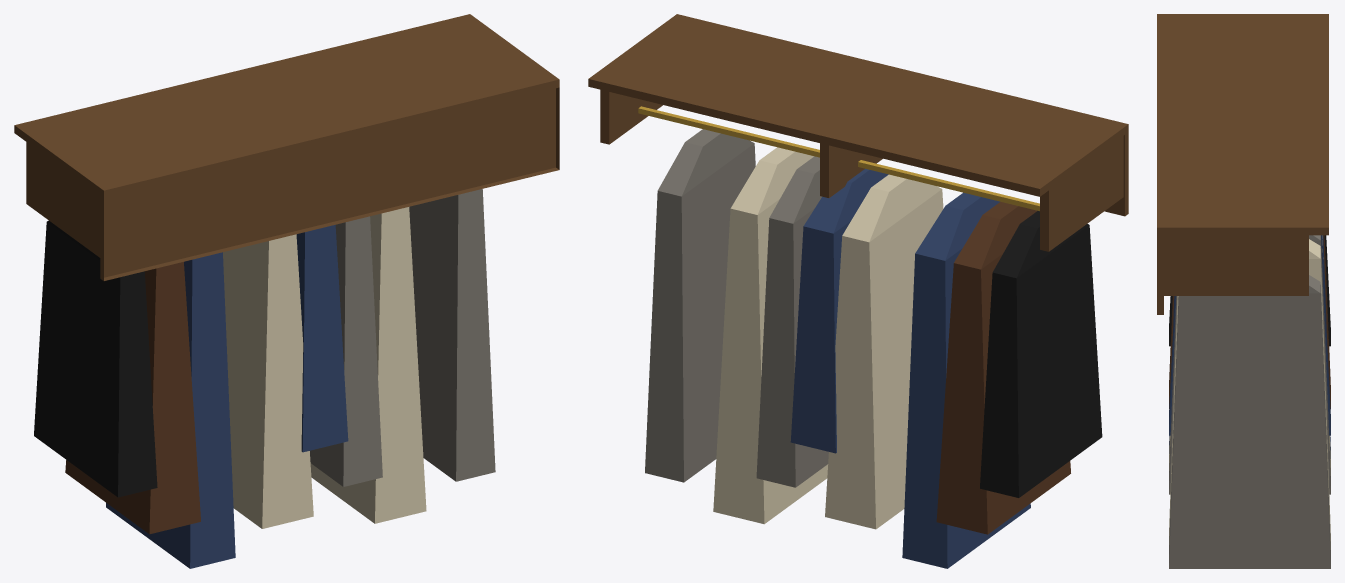
File: parametric-coat_rack-1st-pub.glb
3 views of the same model, side by side, from view 1: azimuth 30°, elevation 25°; view 2: azimuth 150°, elevation 25°; view 3: azimuth 270°, elevation 25° (orthographic). The views are drawn at different scales.
Parts seen in each view (by area): view 1: parametric-coat_rack-1st-pub; view 2: parametric-coat_rack-1st-pub; view 3: parametric-coat_rack-1st-pub.
Part boxes in pixels (left/top/right/bottom): parametric-coat_rack-1st-pub: left=14, top=14, right=559, bottom=568; parametric-coat_rack-1st-pub: left=588, top=14, right=1128, bottom=568; parametric-coat_rack-1st-pub: left=1157, top=14, right=1330, bottom=568.
Size of the model in its own units: 1.5 by 1.27 by 0.515.
